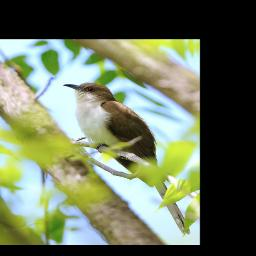Cuckoo: (62, 81, 193, 236)
